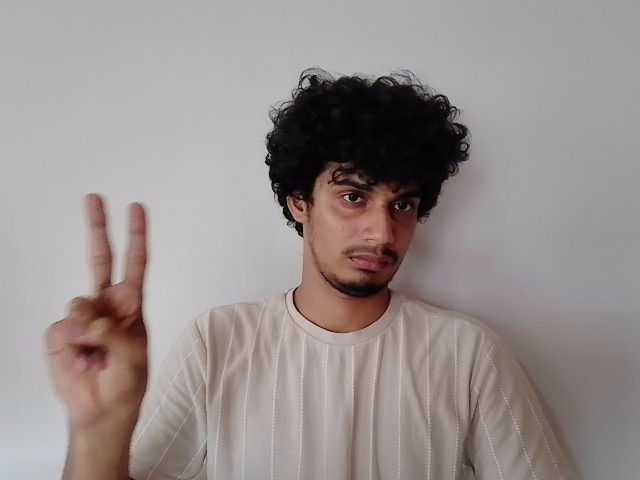travel: (33, 186, 170, 410)
